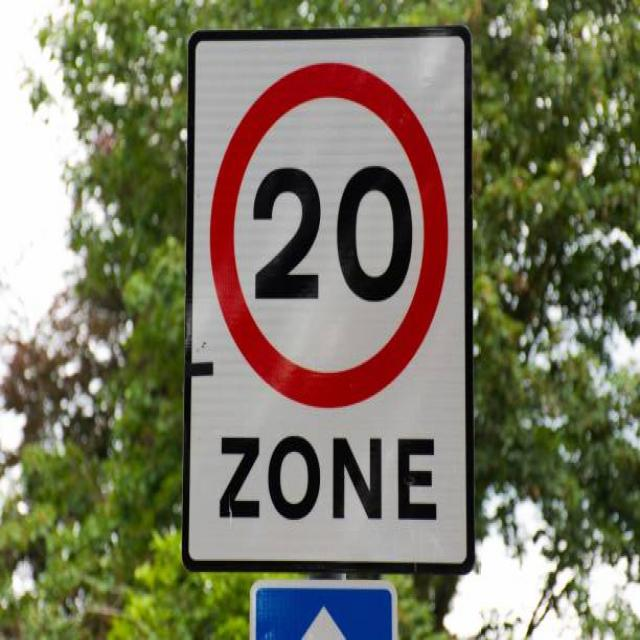speed_limit_20: (210, 59, 450, 415)
